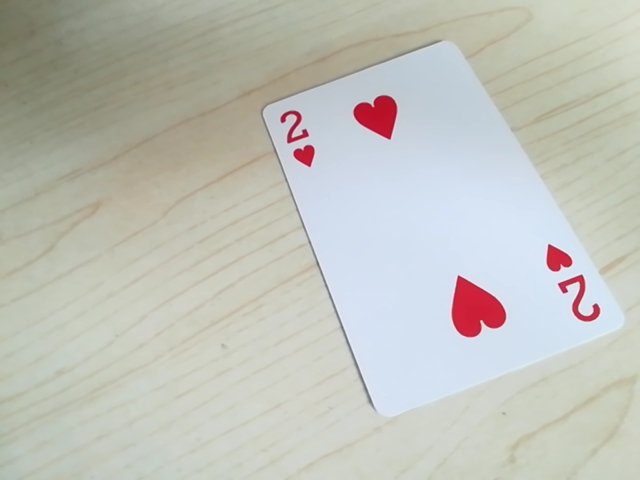hx 2: (543, 238, 599, 330), (269, 100, 316, 164)
